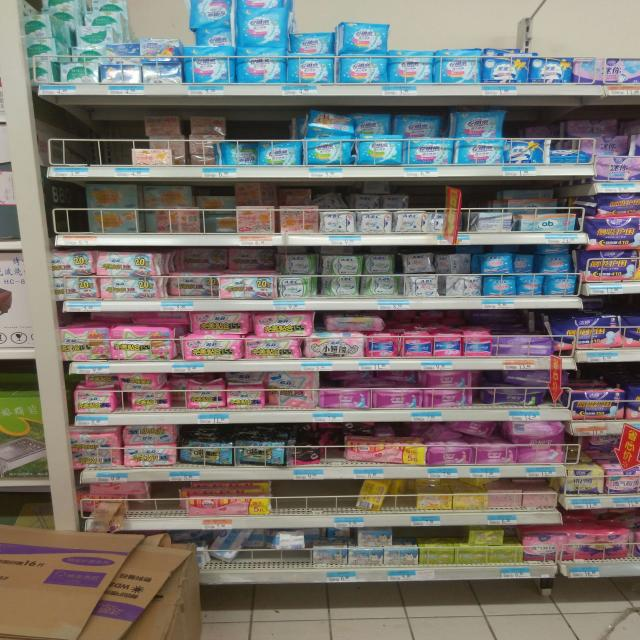void: (98, 98, 130, 178), (48, 180, 86, 247), (36, 100, 65, 178), (68, 98, 96, 178), (322, 479, 354, 532), (154, 482, 177, 529), (275, 482, 298, 528), (299, 481, 318, 531), (623, 54, 640, 101)
